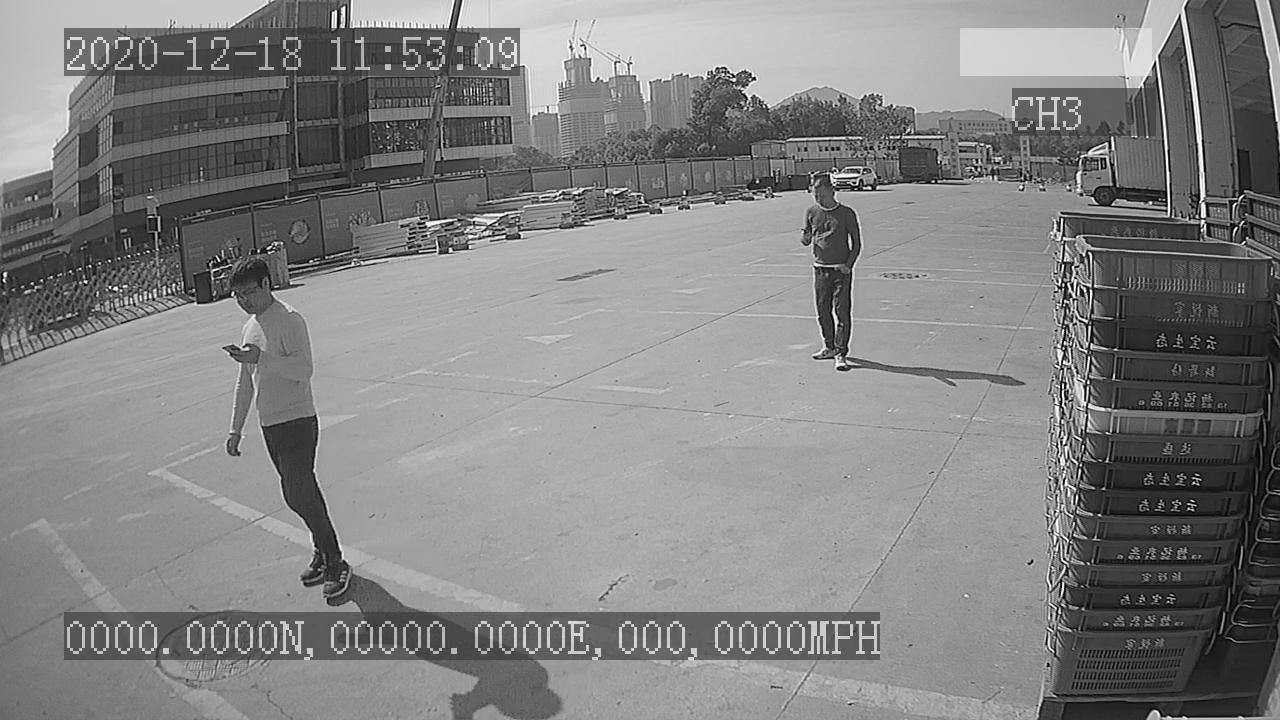person: (209, 247, 361, 606), (793, 163, 863, 372)
